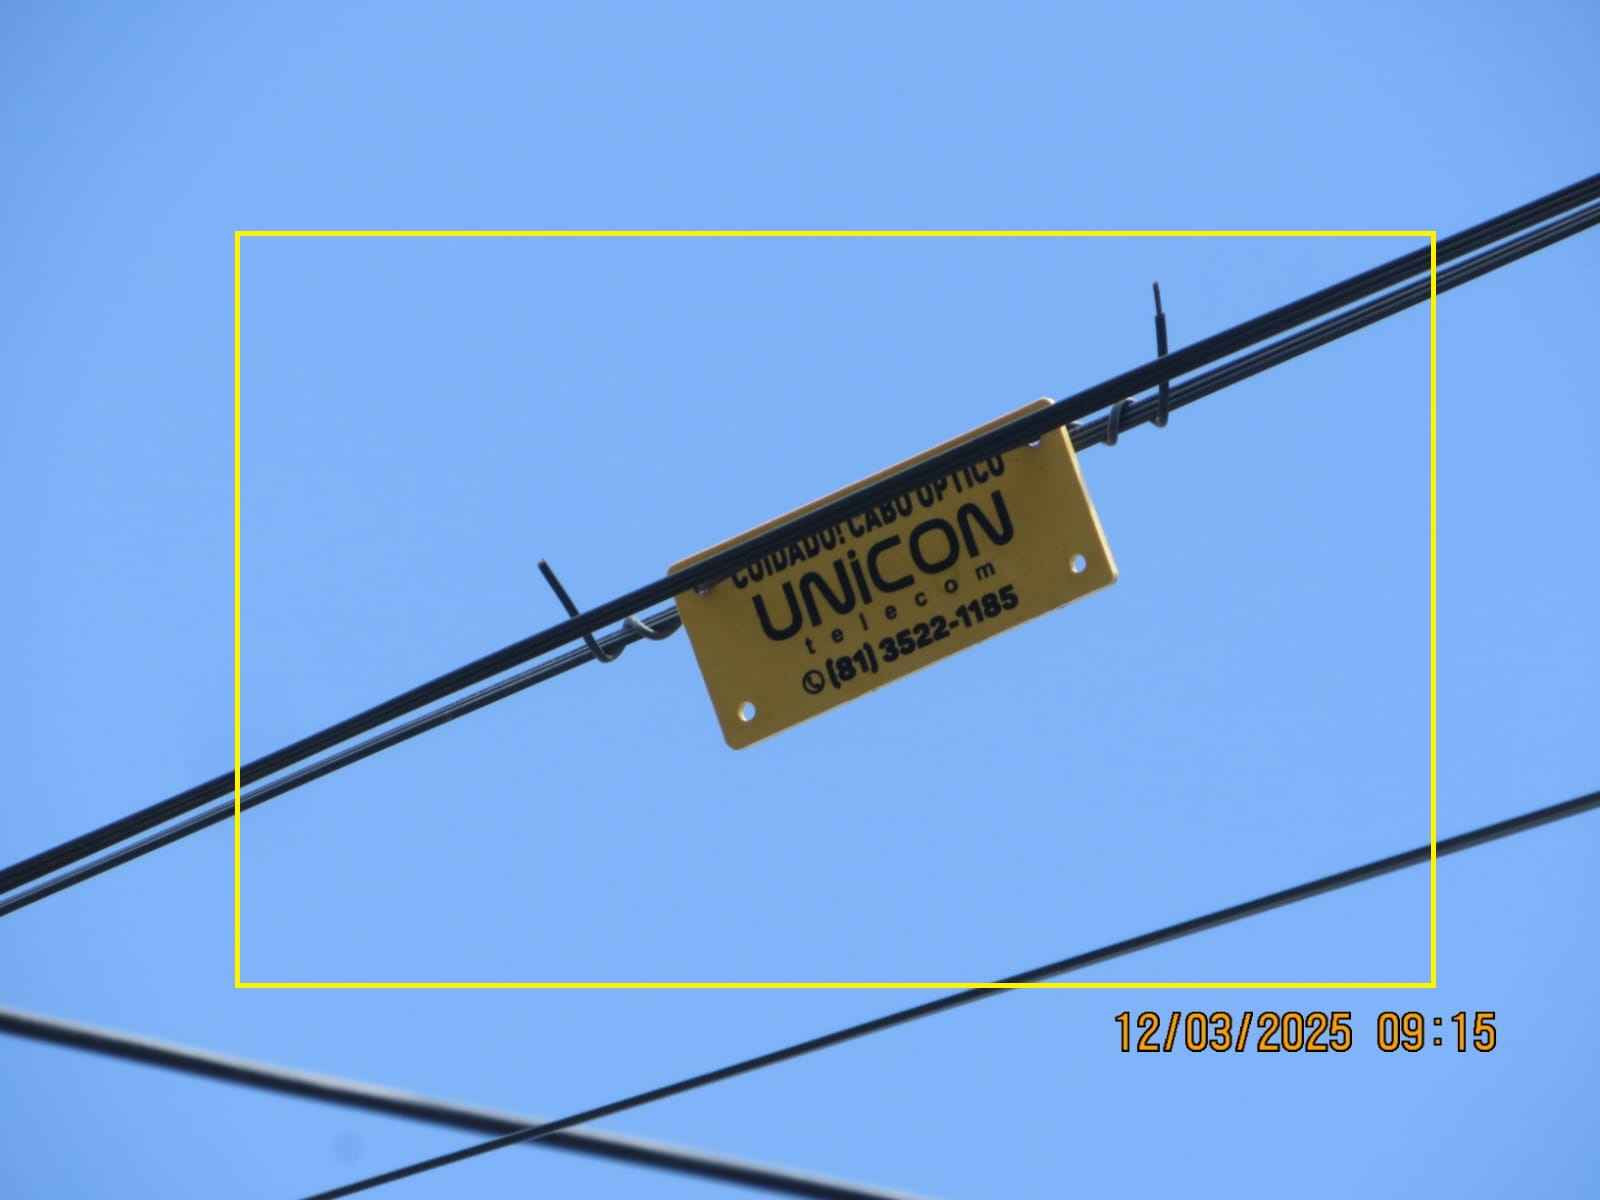fibra_optica: (665, 392, 1143, 780)
